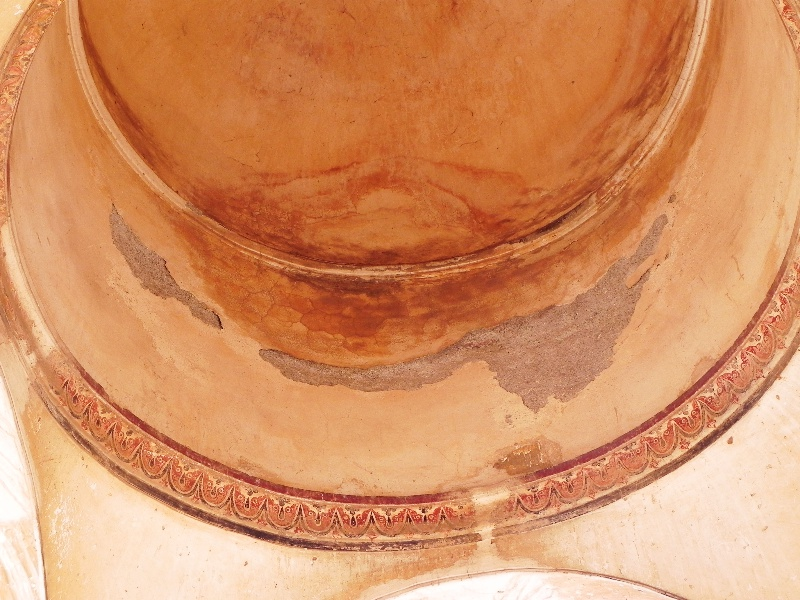Spalling: (482, 212, 677, 423), (106, 203, 227, 337), (255, 337, 479, 397)
